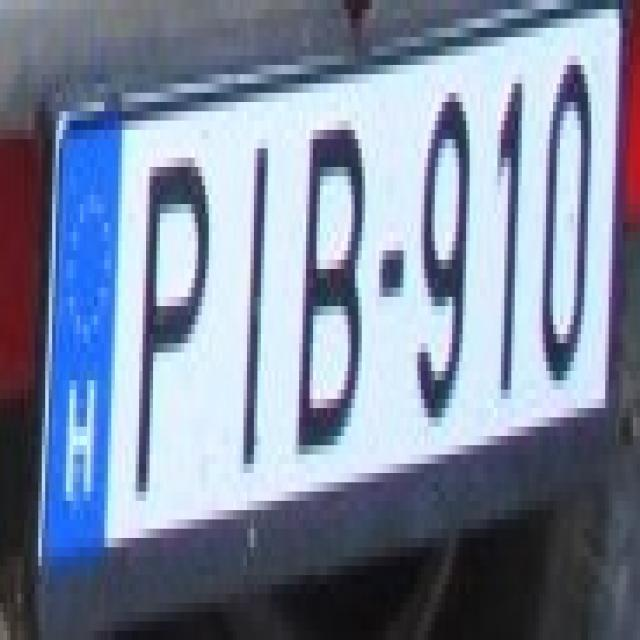0: (536, 47, 592, 380)
1: (477, 46, 525, 399)
9: (407, 65, 473, 418)
B: (285, 102, 369, 455)
L: (212, 102, 282, 473)
P: (115, 130, 212, 492)
